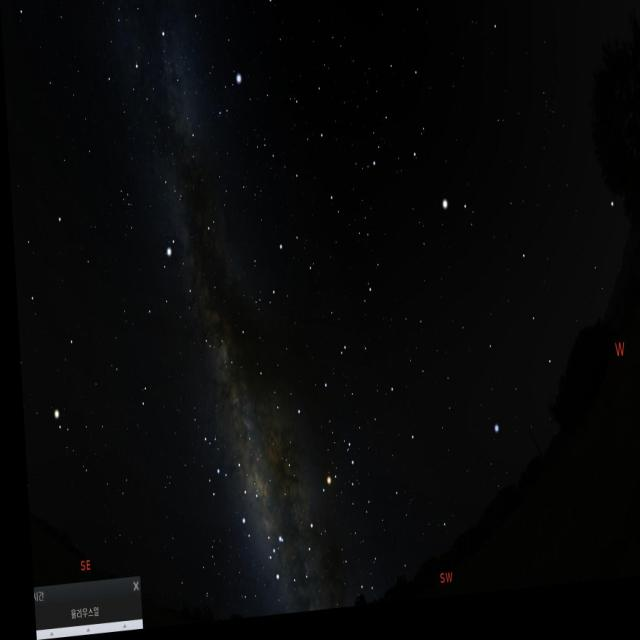aquila: (132, 201, 228, 376)
bootes: (381, 50, 480, 262)
cygnus: (125, 0, 208, 168)
lyra: (202, 70, 246, 138)
sagittarius: (184, 441, 264, 559)
scorpius: (256, 437, 367, 601)
